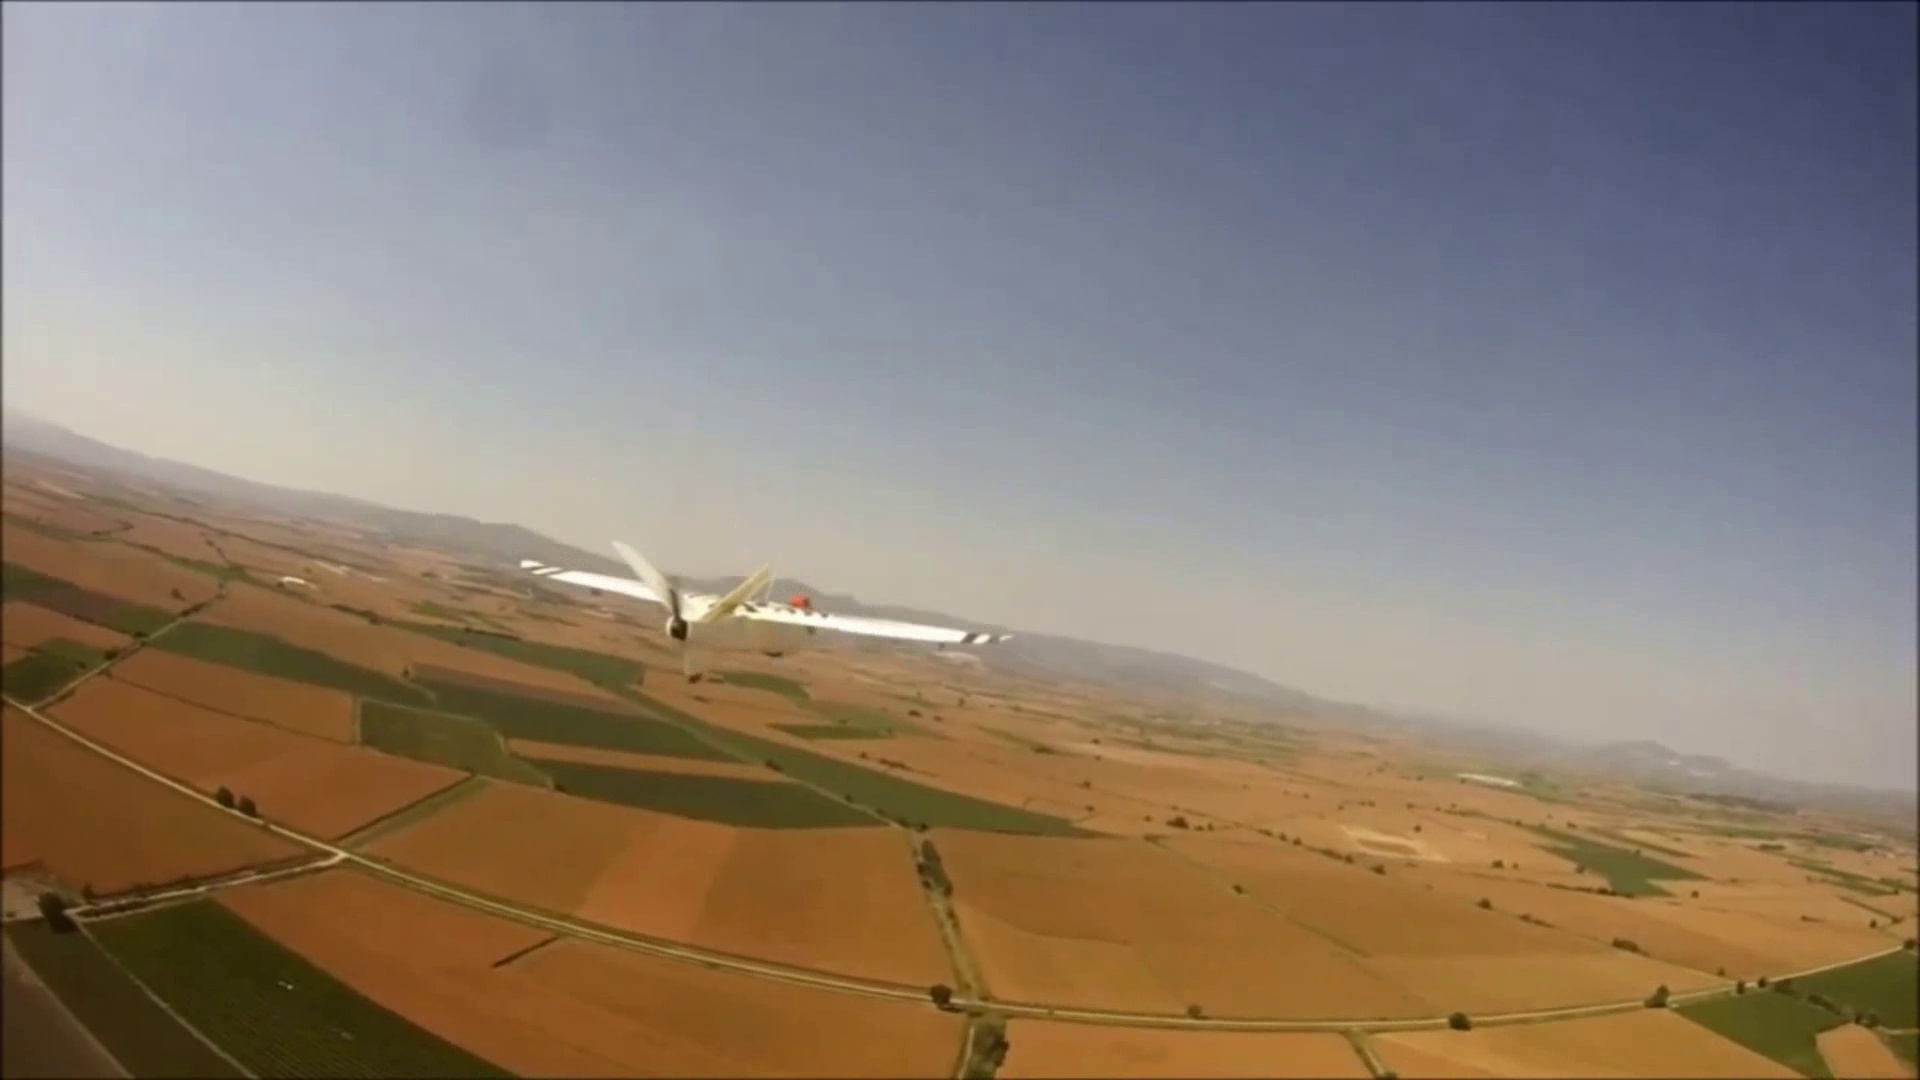airplane: (11, 411, 1006, 674)
